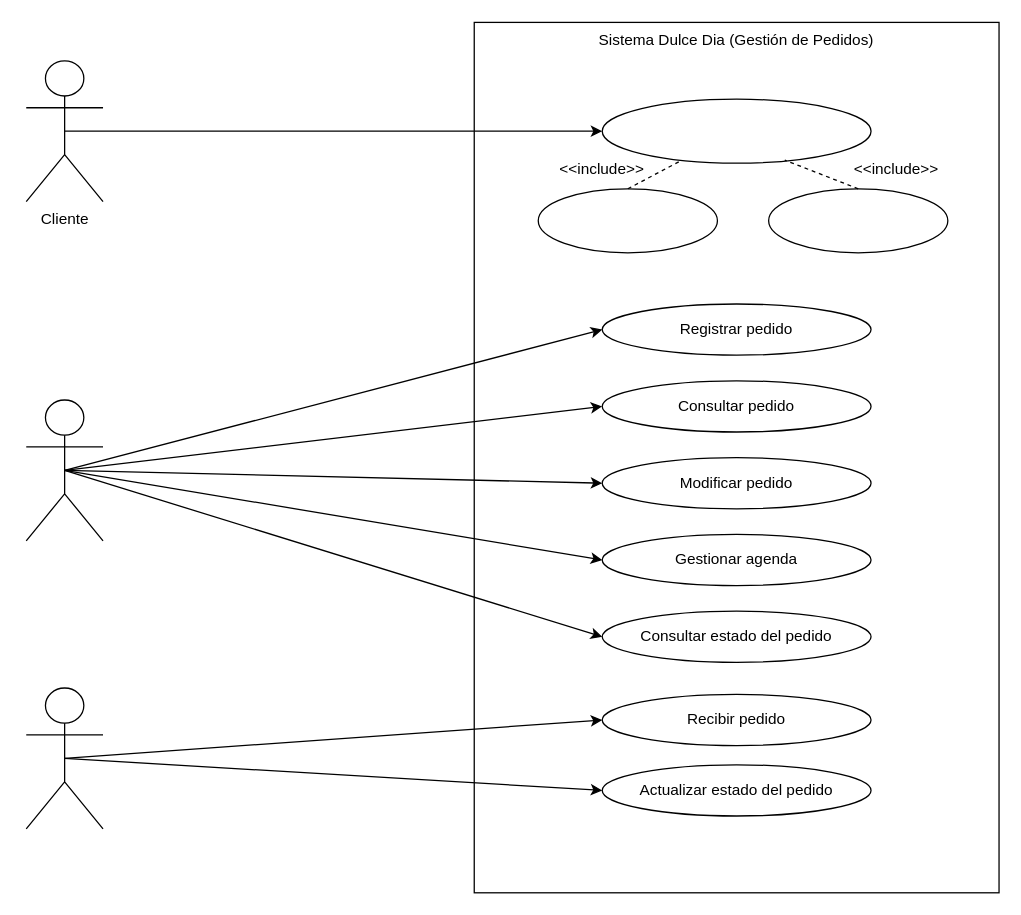
The diagram is 1021 pixels wide and 915 high, and some of its shapes have lost their labels. The shapes that lost their labels are listed below. From the top down, each one's centre as x and y in pixels, then its label:
At [736,130]: "Realizar pedido".
At [627,220]: "Seleccionar Producto".
At [857,220]: "Confirmar Producto".
At [64,470]: "Personal de Atención".
At [64,758]: "Personal de Producción".
